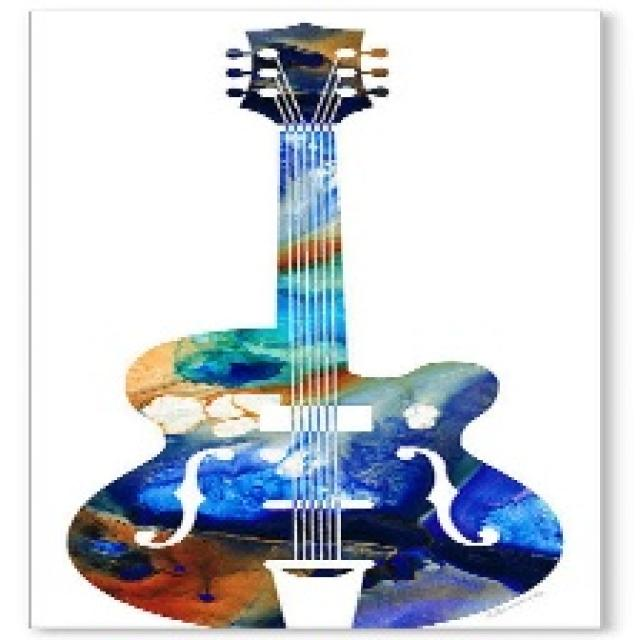guitar: (64, 14, 568, 628)
